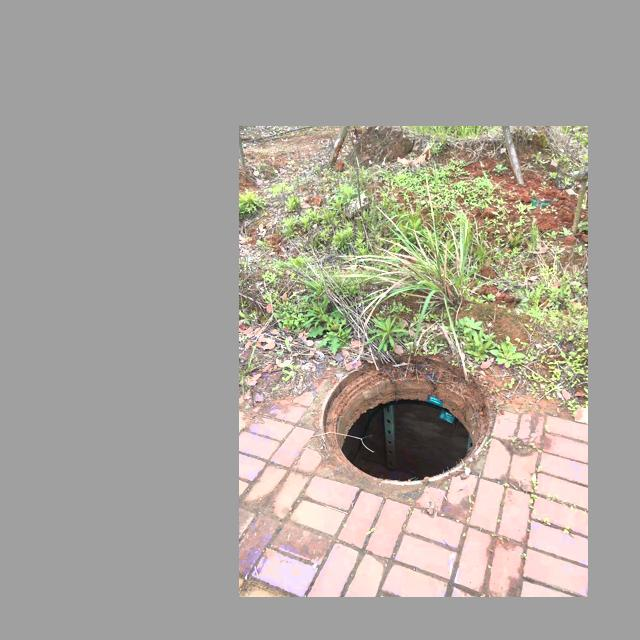lose: (322, 353, 494, 484)
